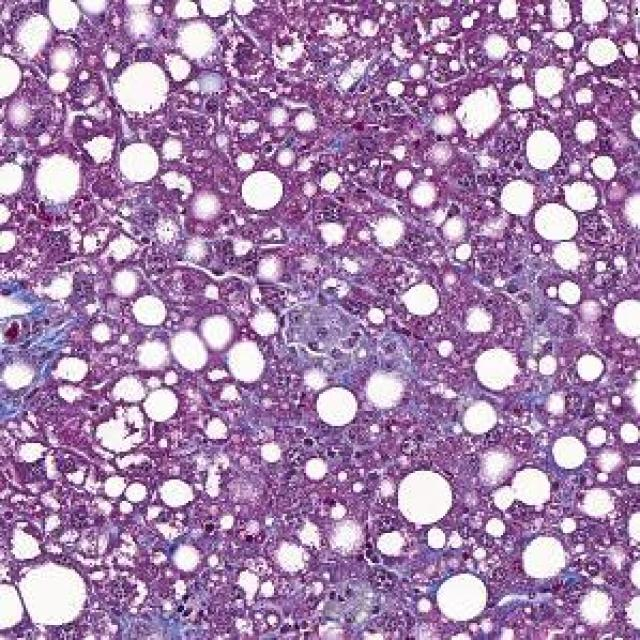fibrosis: (280, 280, 394, 370)
